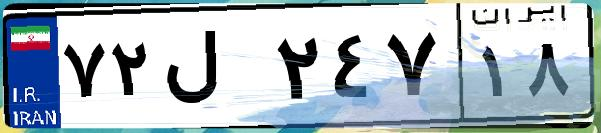1: (475, 38, 525, 113)
2: (270, 28, 330, 110), (110, 28, 158, 98)
4: (330, 28, 385, 110)
7: (385, 28, 445, 110), (57, 26, 110, 100)
8: (525, 38, 570, 115)
ل: (158, 20, 270, 120)
